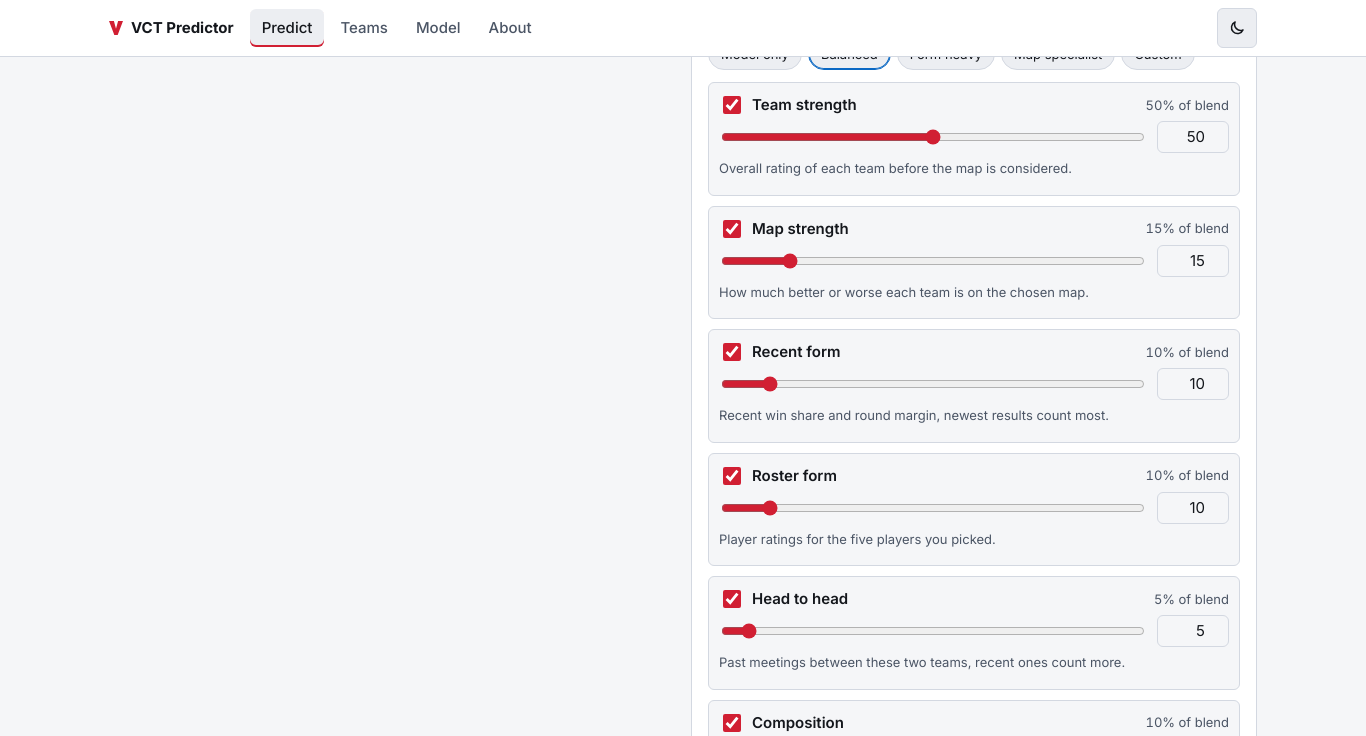
Test case: Predict page (mock mode) › moving a slider updates the blend live but not the model
(page scrolled)
# Use the number box: reliable in jsdom.
Replace the text in the number field named "weight number for recent form" with "100": (1193, 384) top-left (1157, 368), bottom-right (1229, 400)
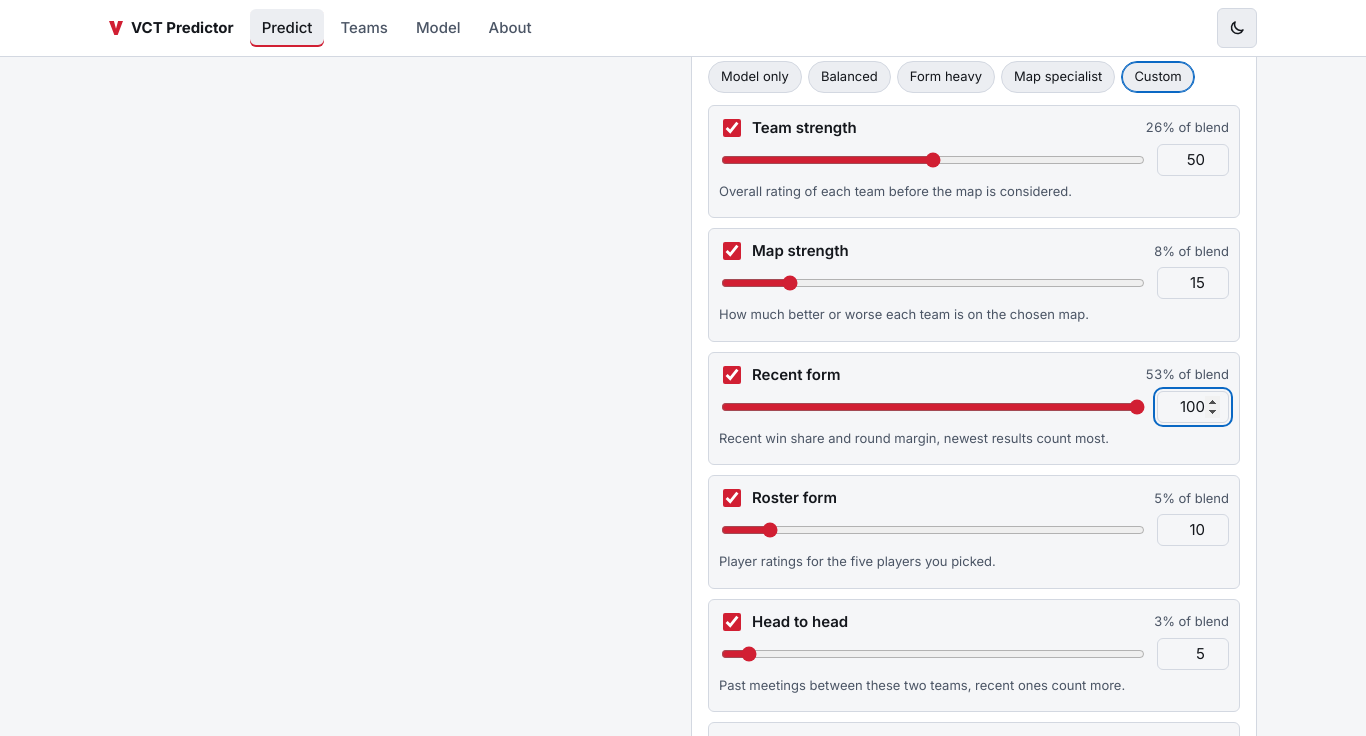
Result: the slider named "weight for recent form" holds "100" at top-left (721, 395), bottom-right (1145, 419)
